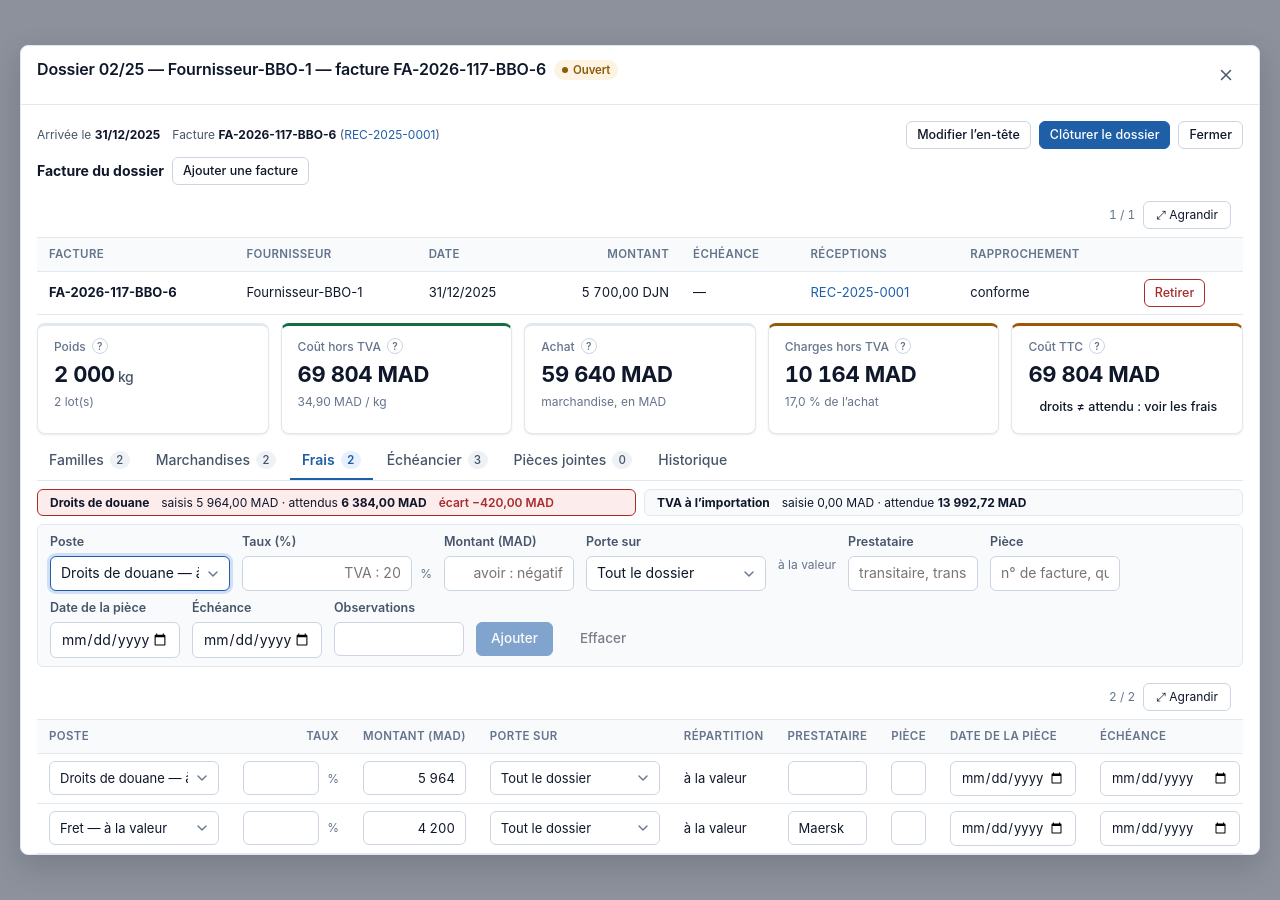
Frais › taux : la ligne d’ajout › droits 2,5 % sur une seule marchandise : sa valeur en douane × 2,5 %
In the dropdown labelled "Porte sur": x=676, y=574 [586,556,766,591], type "ROUGE"
Then press Enter
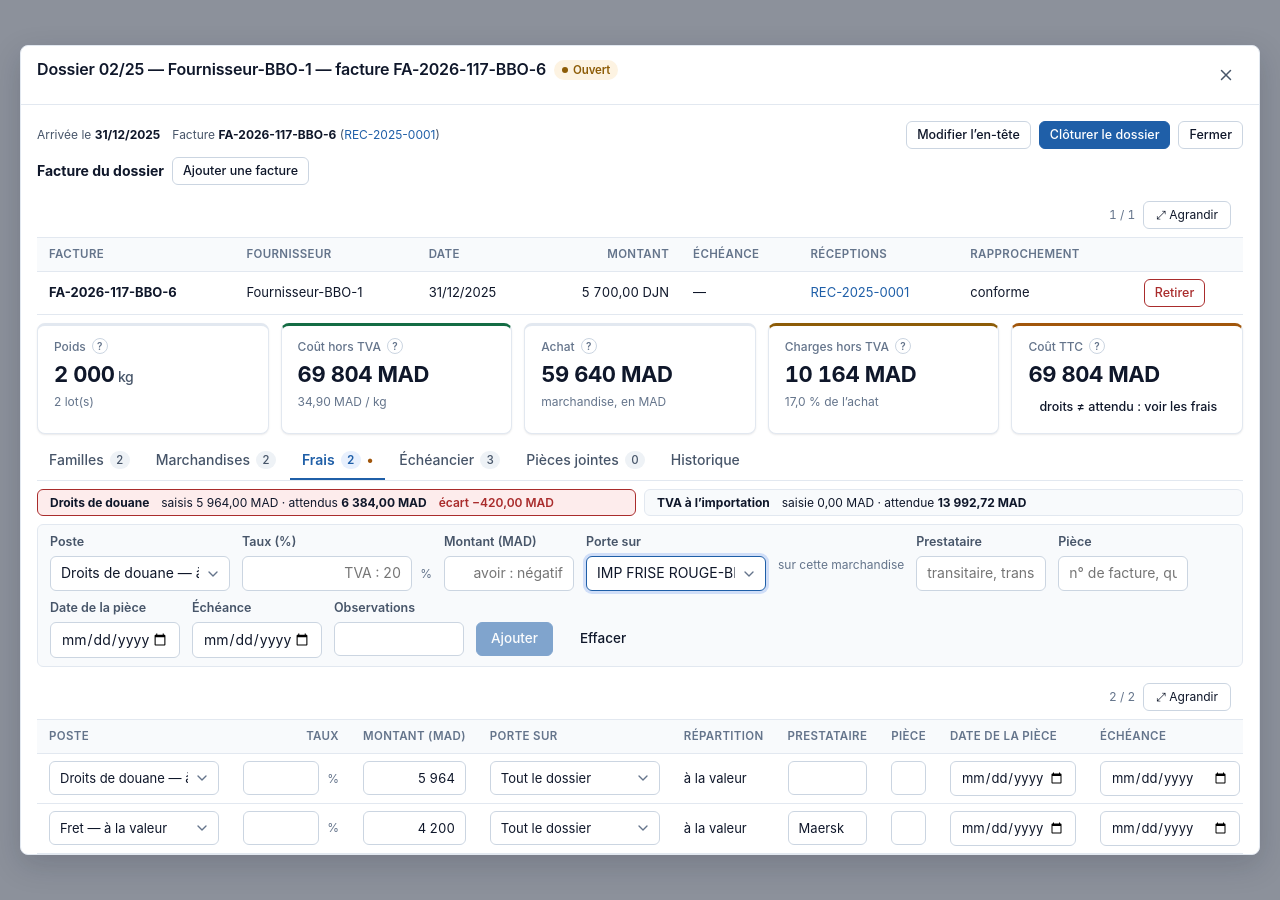
In the field labelled "Taux (%)": x=327, y=574 [242,556,412,591], type "2,5"
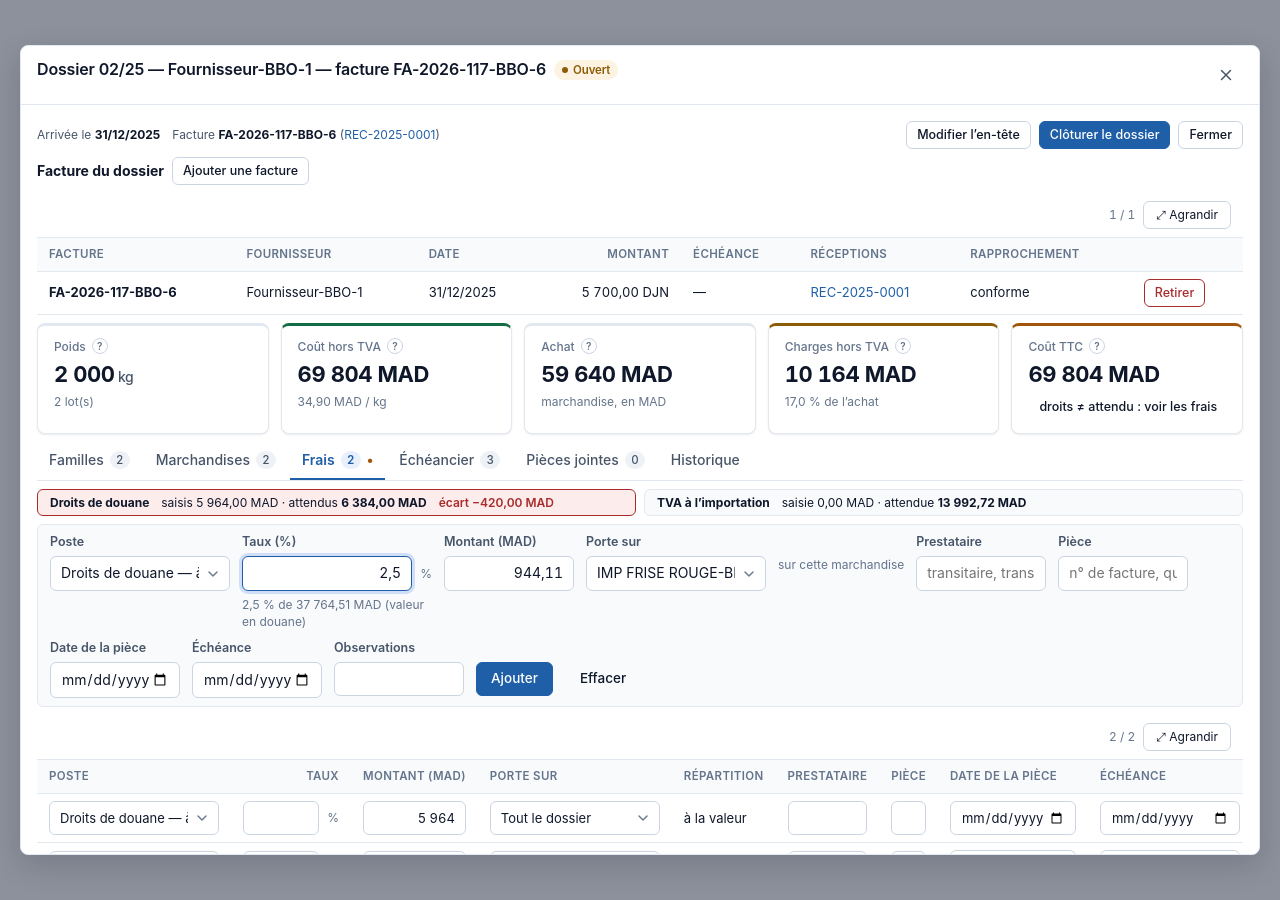
Expected: the text "2,5 % de 37 764,51 MAD (valeur en douane)" is shown, [242,596,432,631]
